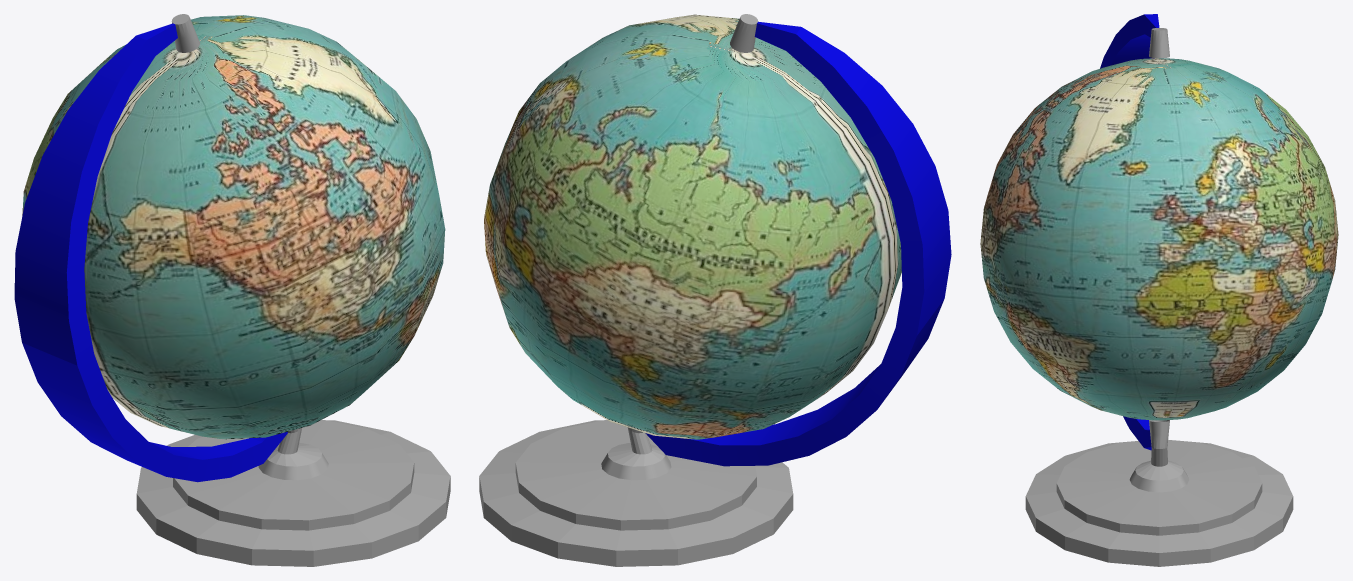
File: globe.fbx
The picture shows the model from 3 angles, left to right: view 1: azimuth 30°, elevation 25°; view 2: azimuth 150°, elevation 25°; view 3: azimuth 270°, elevation 25°; orthographic projection. The views are drawn at different scales.
Parts seen in each view (by area): view 1: globe; view 2: globe; view 3: globe.
Part boxes in pixels (left/top/right/bottom): globe: left=14, top=14, right=450, bottom=566; globe: left=479, top=14, right=951, bottom=566; globe: left=980, top=14, right=1338, bottom=566.
Bounding box in the file's own units: 2.6 × 3.02 × 2.25.
